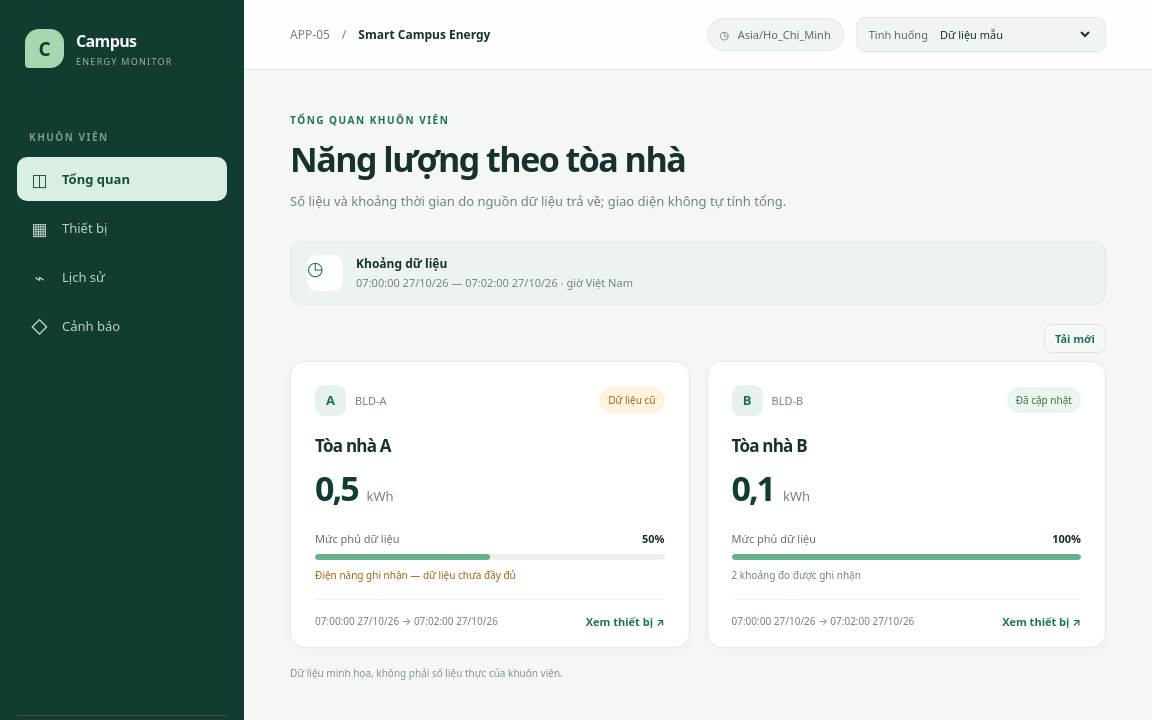
it: Dashboard mock-first UI › AC-12: navigation keeps building and device identity consistent across screens
expect the element with test id "summary-BLD-A" is shown: met, box [290,361,690,648]
Step 1. Click the link "Xem thiết bị ↗" below "Điện năng ghi nhận — dữ liệu chưa đầy đủ" → (625, 621), box [586,614,664,629]
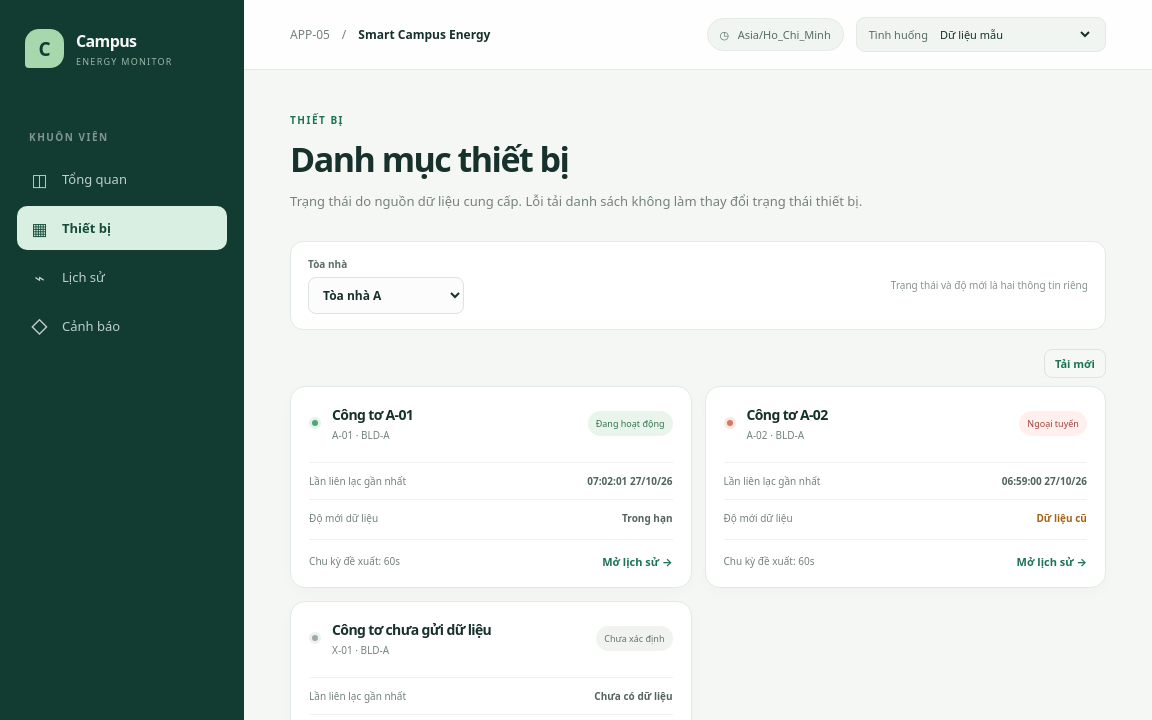
expect the element with test id "device-A-01" is shown: met, box [290,386,692,588]
